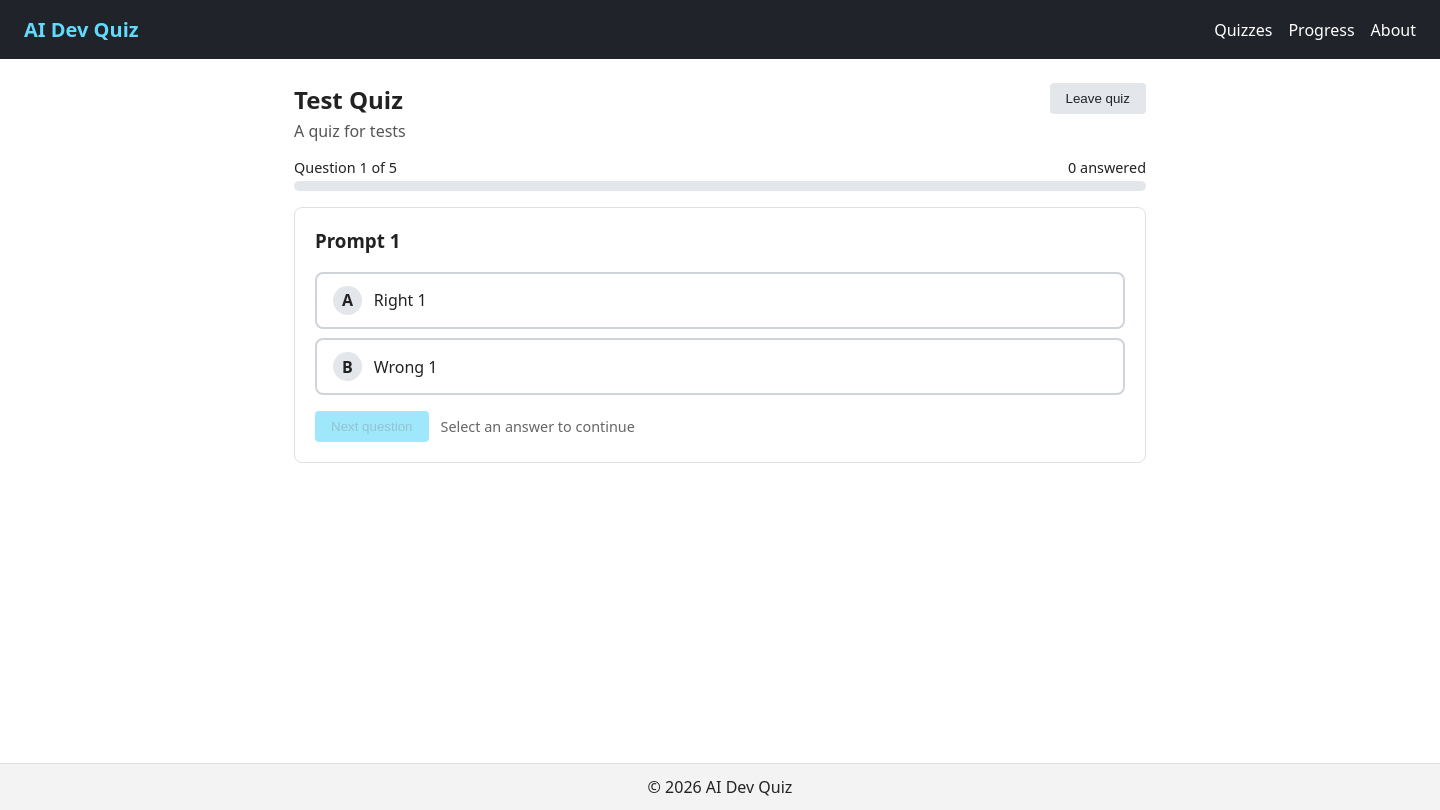
Scenario: Quiz flow › ignores rapid repeated clicks on an option and Next
The width and height of the screenshot is (1440, 810).
Expected: the heading "Test Quiz" is shown, left=294, top=83, right=406, bottom=116
Double-click the button "A Right 1".
double_click(400, 300)  # box left=315, top=272, right=1125, bottom=328
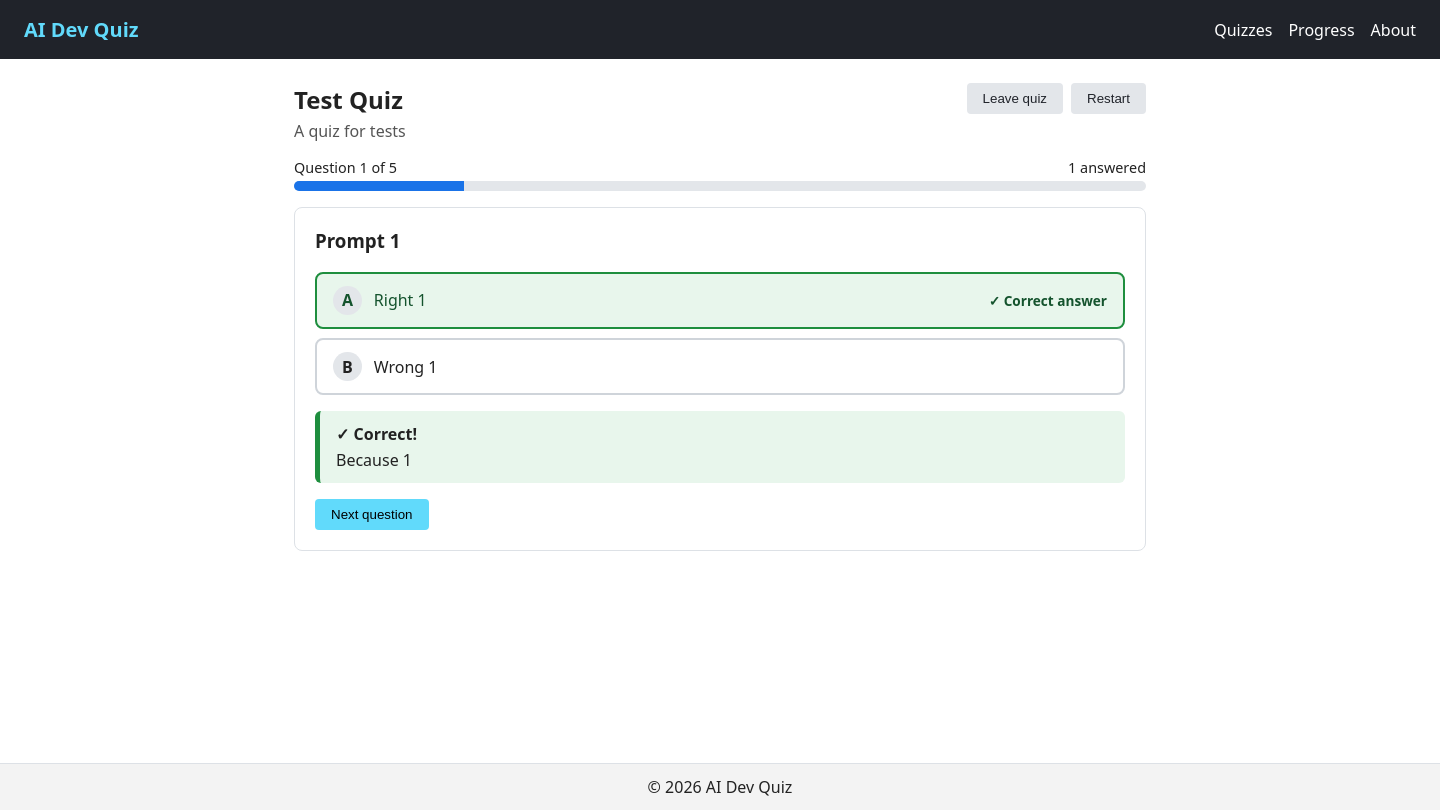
Double-click the button "Next question".
double_click(372, 514)  # box left=315, top=499, right=428, bottom=530
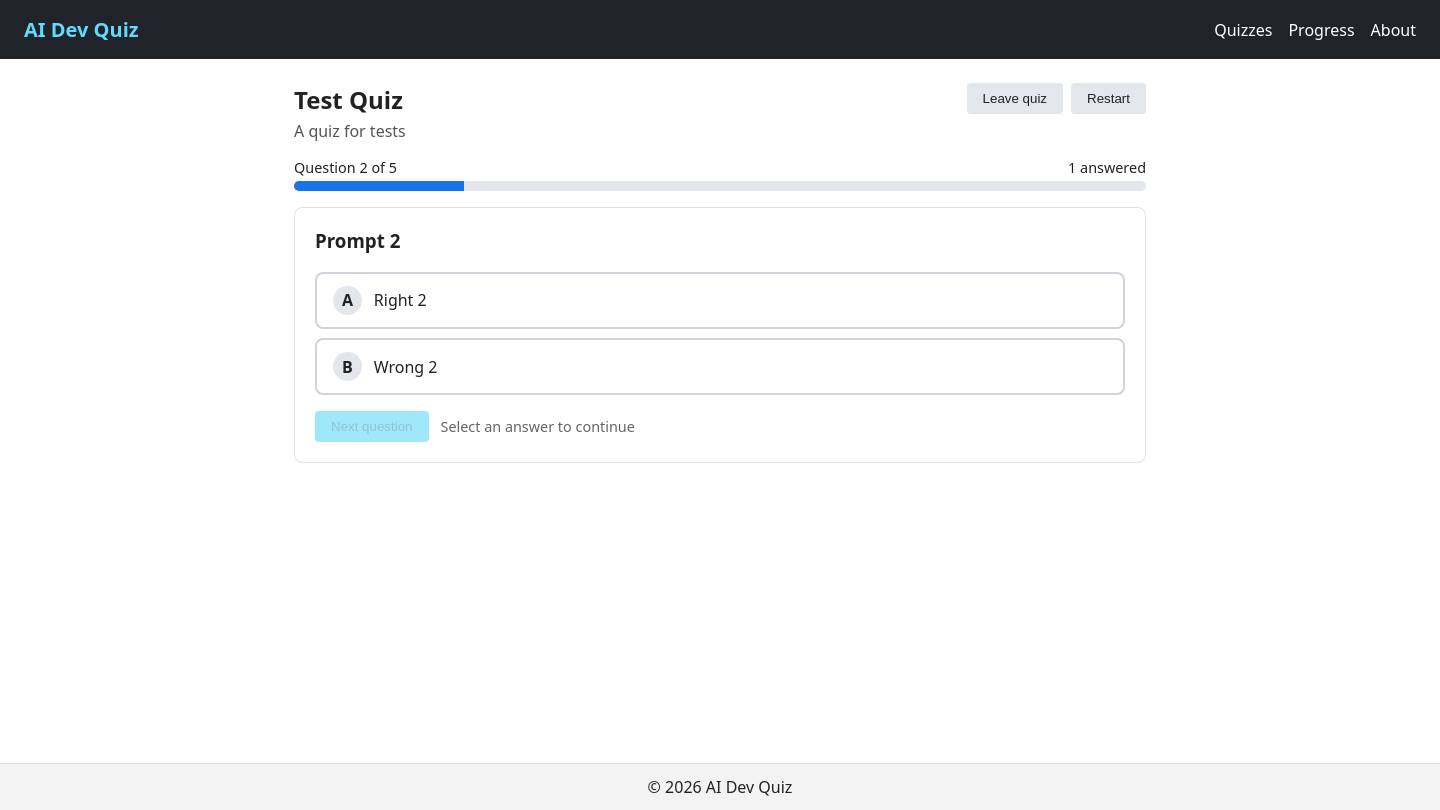
Expected: the text "1 answered" is shown, left=1068, top=158, right=1146, bottom=177
Expected: the text "Question 2 of 5" is shown, left=294, top=158, right=397, bottom=177
